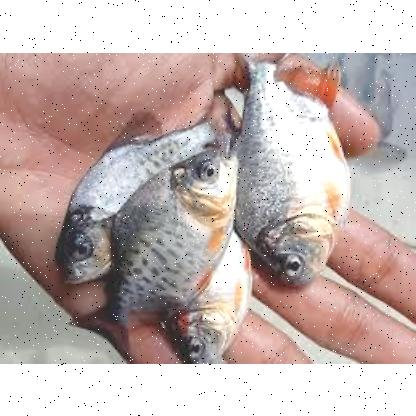ikan-pacu: (236, 57, 354, 280), (106, 153, 233, 303)
